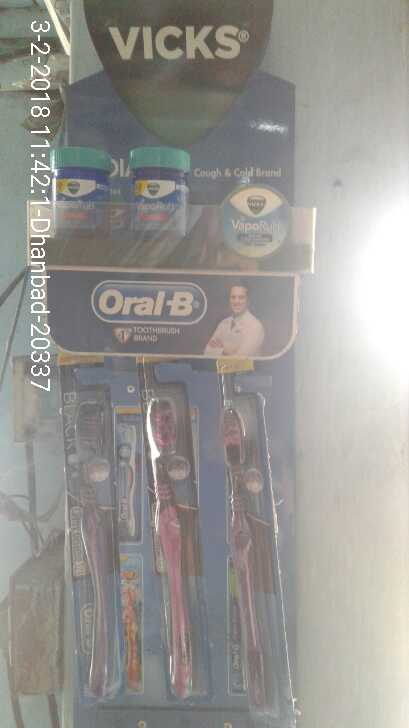pharmacy: (136, 387, 203, 699), (57, 391, 123, 688), (218, 398, 277, 708), (47, 139, 109, 238), (123, 143, 186, 231)
